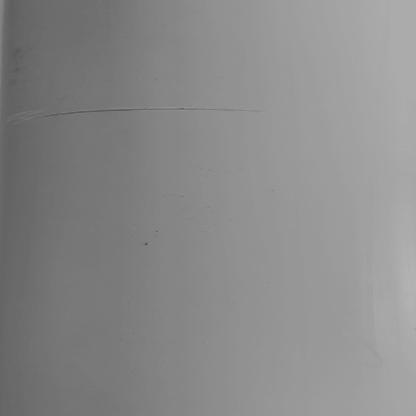sunshang: (4, 103, 264, 131)
